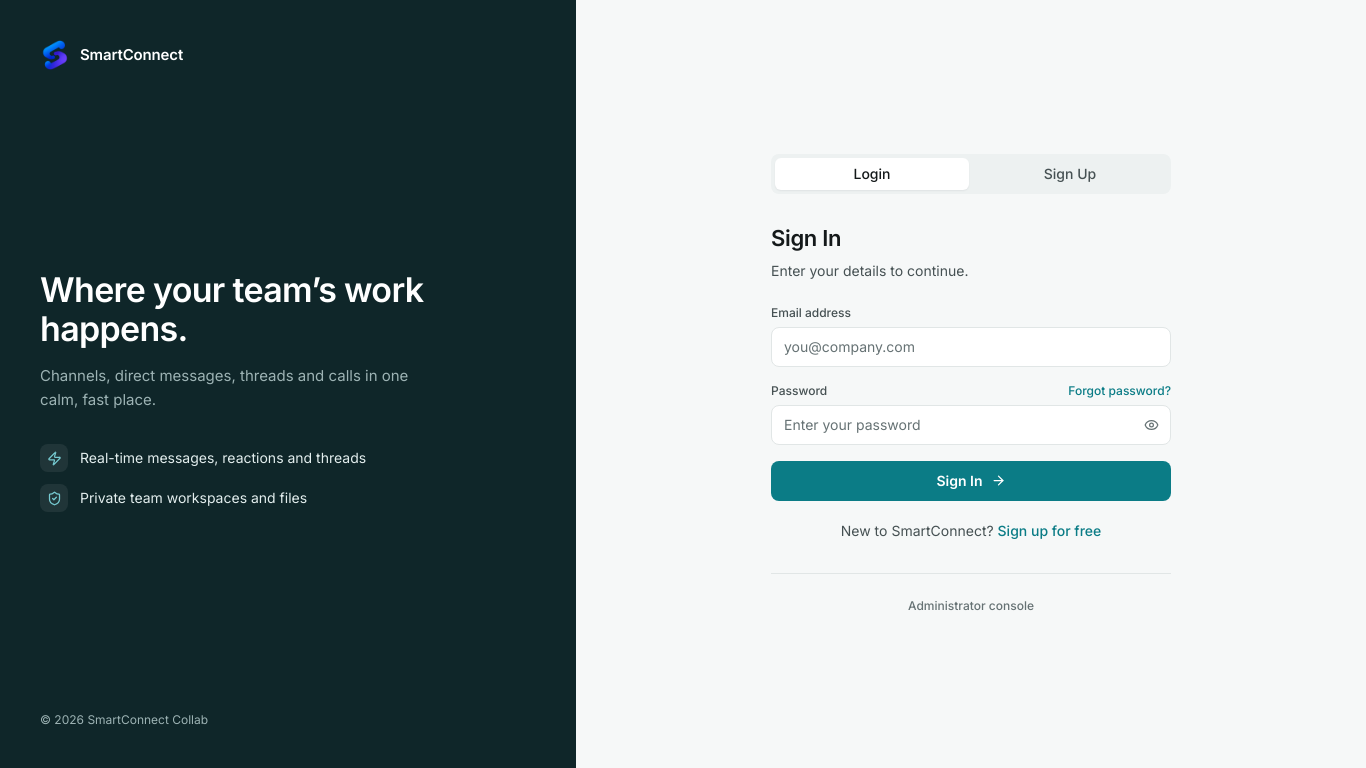
Test: QA — sign-in form › L5: the address follows the tab (/login <-> /signup) and the administrator form (/admin/login)
Click the tab "Sign Up": (1070, 174) [973,158,1167,190]
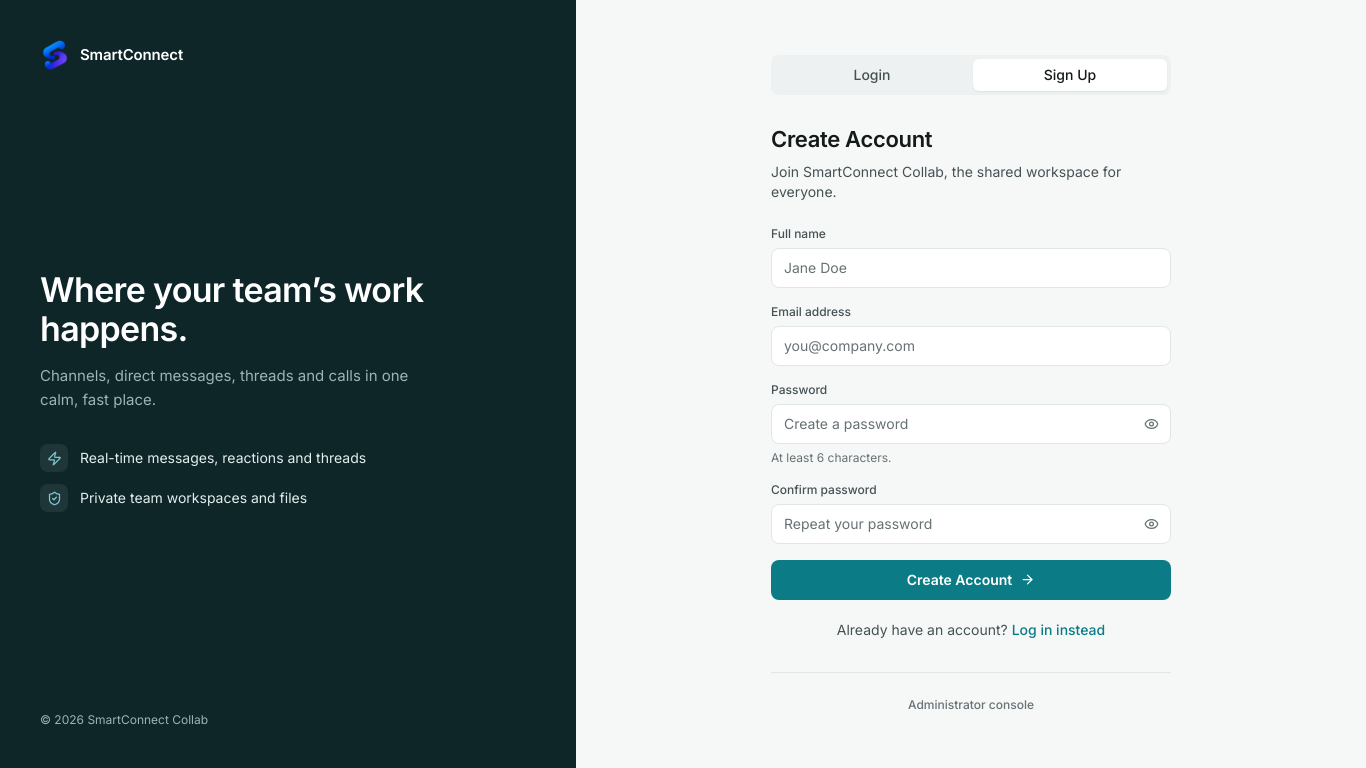
Click the tab "Login": (872, 74) [775,58,969,90]
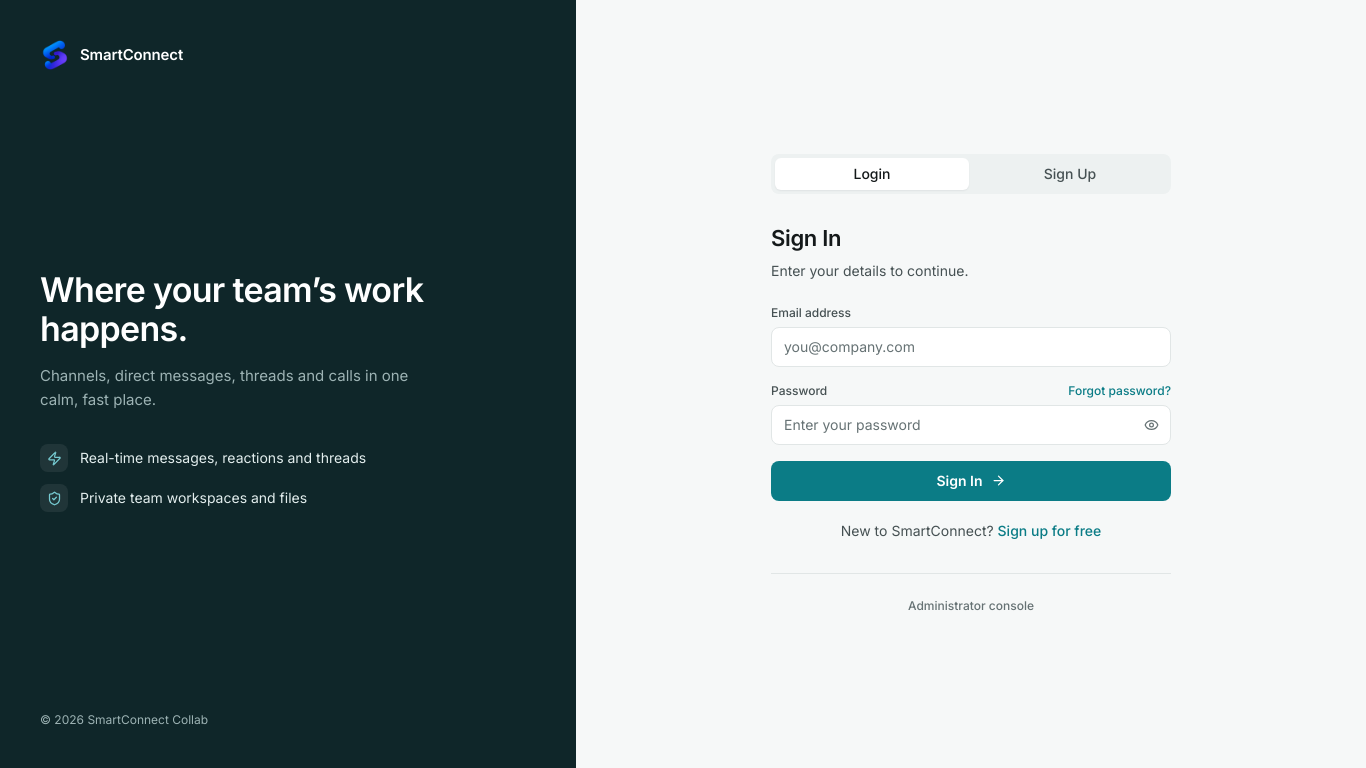
Click the button "Administrator console": (971, 606) [908,598,1034,614]
(page scrolled)
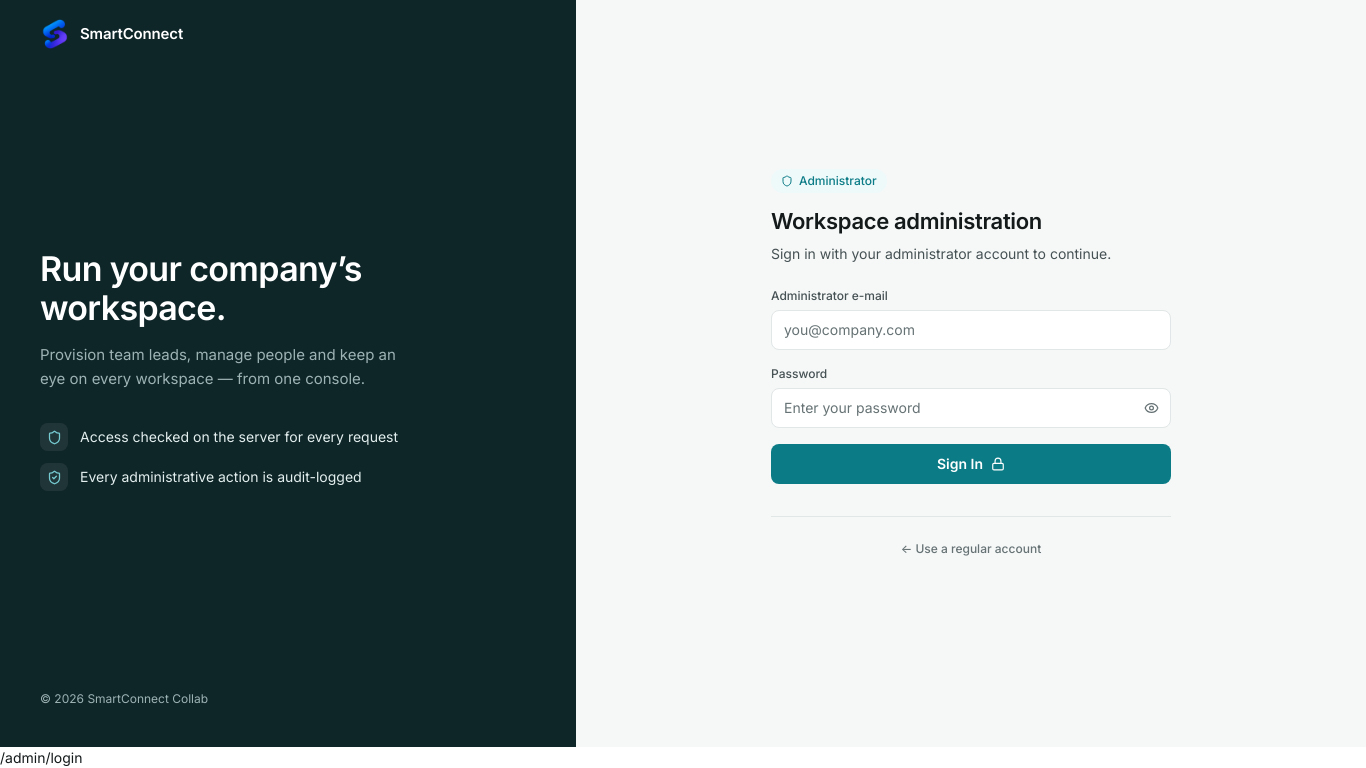
Expected: the text with test id "path" reads "/admin/login", [0,749,82,766]
